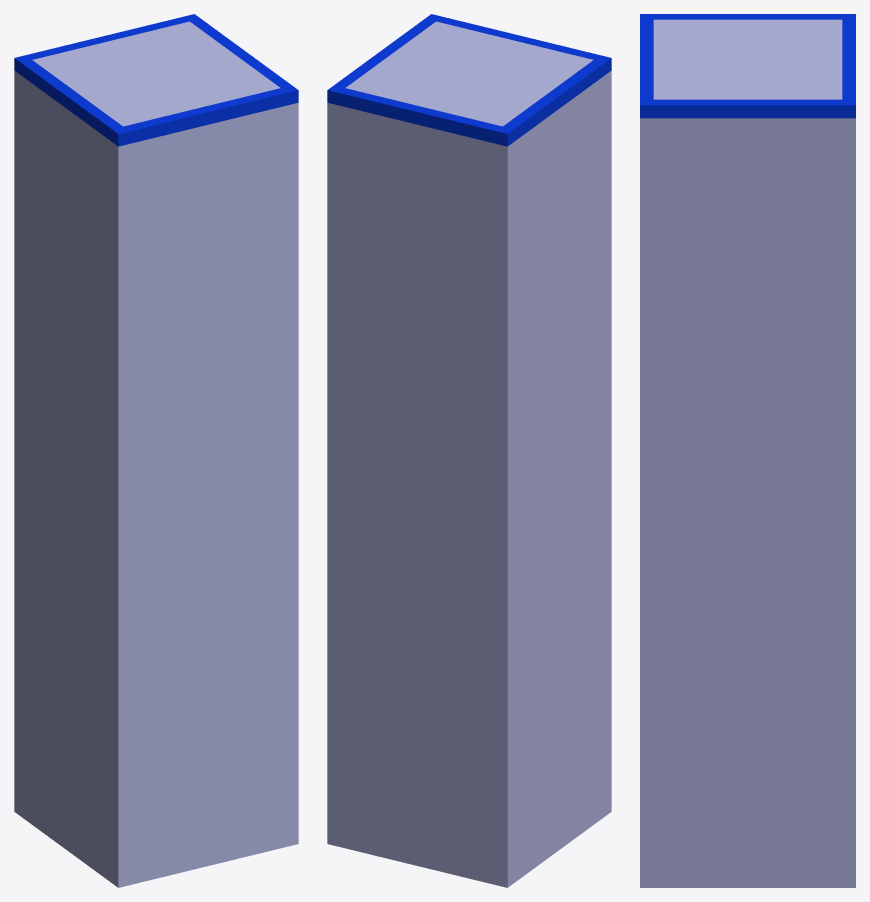
The model's file is blue.fbx.
3 views of the same model, side by side, from view 1: azimuth 30°, elevation 25°; view 2: azimuth 150°, elevation 25°; view 3: azimuth 270°, elevation 25° (orthographic). The views are drawn at different scales.
Visible parts, largest first — view 1: blue; view 2: blue; view 3: blue.
Part boxes in pixels (x1,y1,x2,y2): blue: (14, 14, 298, 887); blue: (327, 14, 611, 887); blue: (640, 14, 855, 887).
Size of the model in its own units: 1 by 4 by 1.
